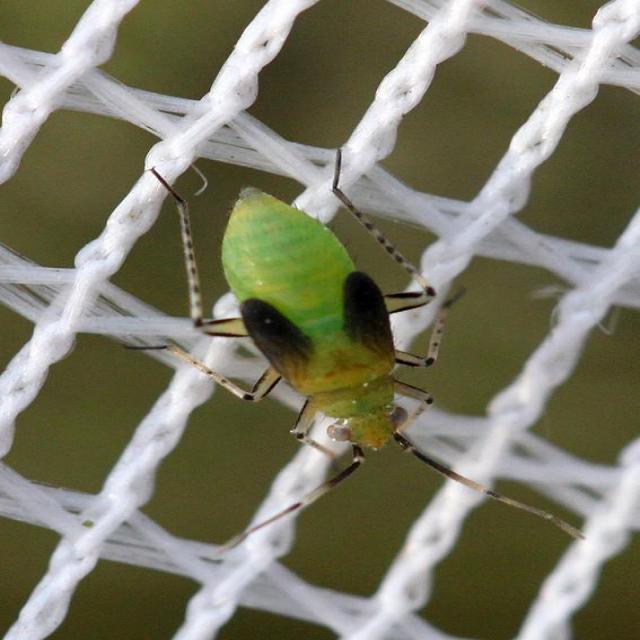Miridae-Adult-: (71, 139, 590, 550)
